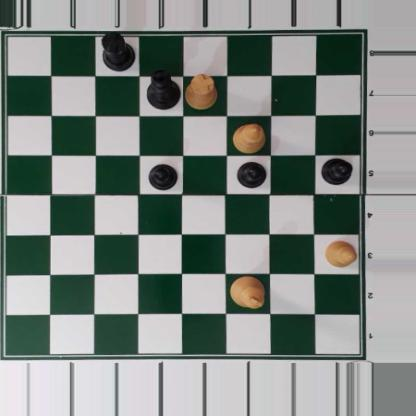black-king: (146, 68, 180, 110)
black-pawn: (320, 155, 352, 185), (236, 160, 267, 188), (147, 162, 178, 190)
black-rook: (99, 32, 137, 71)
white-bishop: (232, 122, 265, 154)
white-king: (230, 274, 266, 309)
white-pawn: (323, 238, 357, 268)
white-rook: (185, 74, 218, 110)
